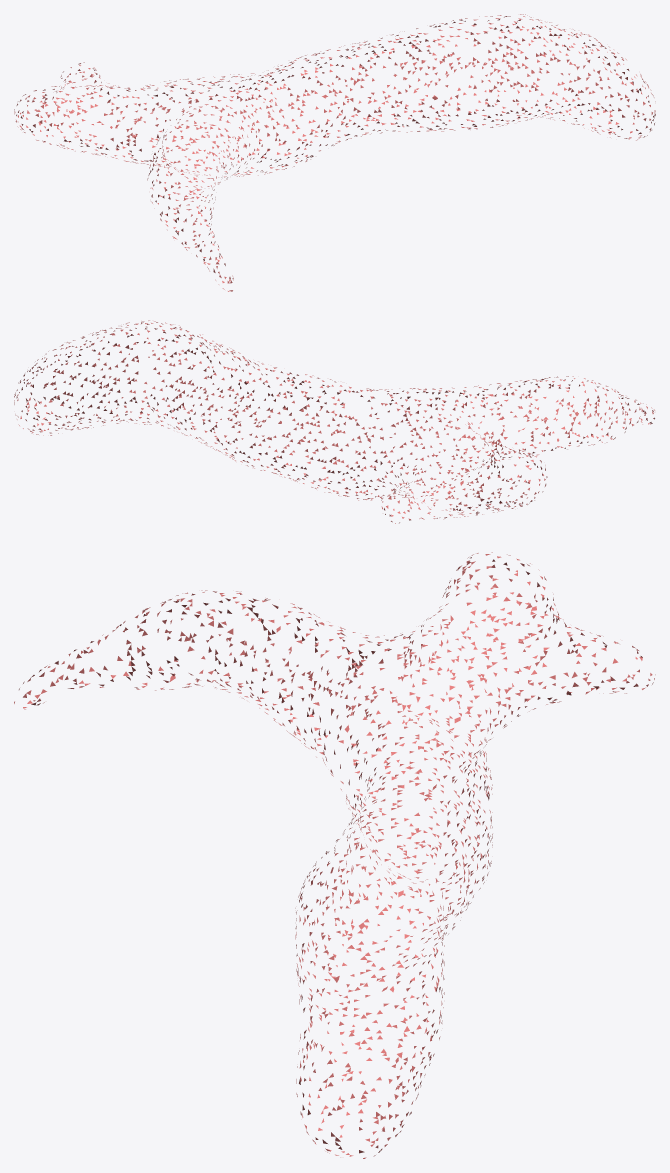
File: morph_000.glb
3 views of the same model, one above another, from view 1: azimuth 30°, elevation 25°; view 2: azimuth 150°, elevation 25°; view 3: azimuth 270°, elevation 25° (orthographic). The views are drawn at different scales.
Size of the model in its own units: 118 by 27.32 by 75.9.
